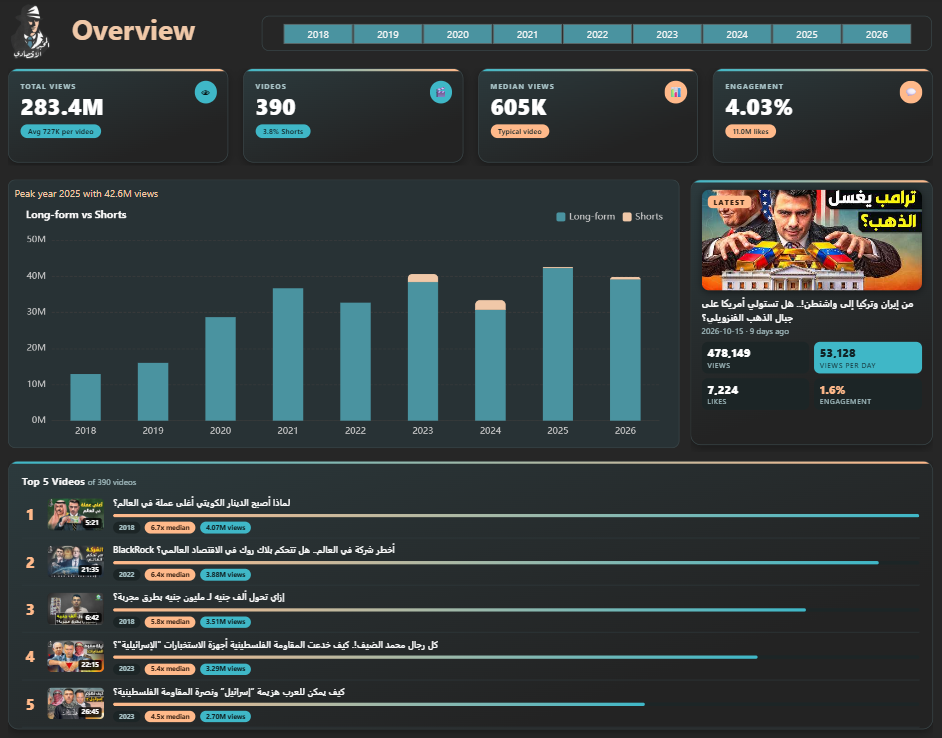

What the dashboard file says about the page in this screenshot:
{"tool":"powerbi","page":{"name":"Overview","canvas":[1280,1000],"ordinal":0},"visuals":[{"type":"htmlContent443BE3AD55E043BF878BED274D3A6855","fields":{"content":["_Measures.Top5_HTML"]},"box":[20,621,1240,379],"z":0},{"type":"image","box":[0,0,100.5,95.5],"z":1000},{"type":"echartsVisual","fields":{"data":["video_stats.upload_year","_Measures.Normal Views M","_Measures.Shorts Views M"]},"box":[20,245,900,360],"z":2000},{"type":"htmlContent443BE3AD55E043BF878BED274D3A6855","fields":{"content":["_Measures.Latest_Video_HTML"]},"box":[935,244.6,325.1,365.3],"z":3000},{"type":"htmlContent443BE3AD55E043BF878BED274D3A6855","fields":{"content":["_Measures.KPI_Cards_HTML"]},"box":[20,95,1240,130],"z":4000},{"type":"textbox","box":[100.5,13.4,259.7,72.1],"z":5000},{"type":"slicer","fields":{"Values":["video_stats.upload_year"]},"box":[360.3,25.1,898.1,46.9],"z":6000}]}

Visuals, with their boxes in screenshot pixels (x1, y1, x2, y2), scaled from the page's 1280x1000 canvas onto the 942x738 screenshot:
htmlContent443BE3AD55E043BF878BED274D3A6855 - _Measures.Top5_HTML: left=15, top=458, right=927, bottom=737
image: left=0, top=0, right=74, bottom=70
echartsVisual - video_stats.upload_year x _Measures.Normal Views M: left=15, top=181, right=677, bottom=446
htmlContent443BE3AD55E043BF878BED274D3A6855 - _Measures.Latest_Video_HTML: left=688, top=181, right=927, bottom=450
htmlContent443BE3AD55E043BF878BED274D3A6855 - _Measures.KPI_Cards_HTML: left=15, top=70, right=927, bottom=166
textbox: left=74, top=10, right=265, bottom=63
slicer - video_stats.upload_year: left=265, top=19, right=926, bottom=53
